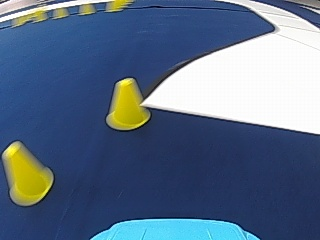cone: (2, 142, 54, 206), (108, 78, 149, 130)
